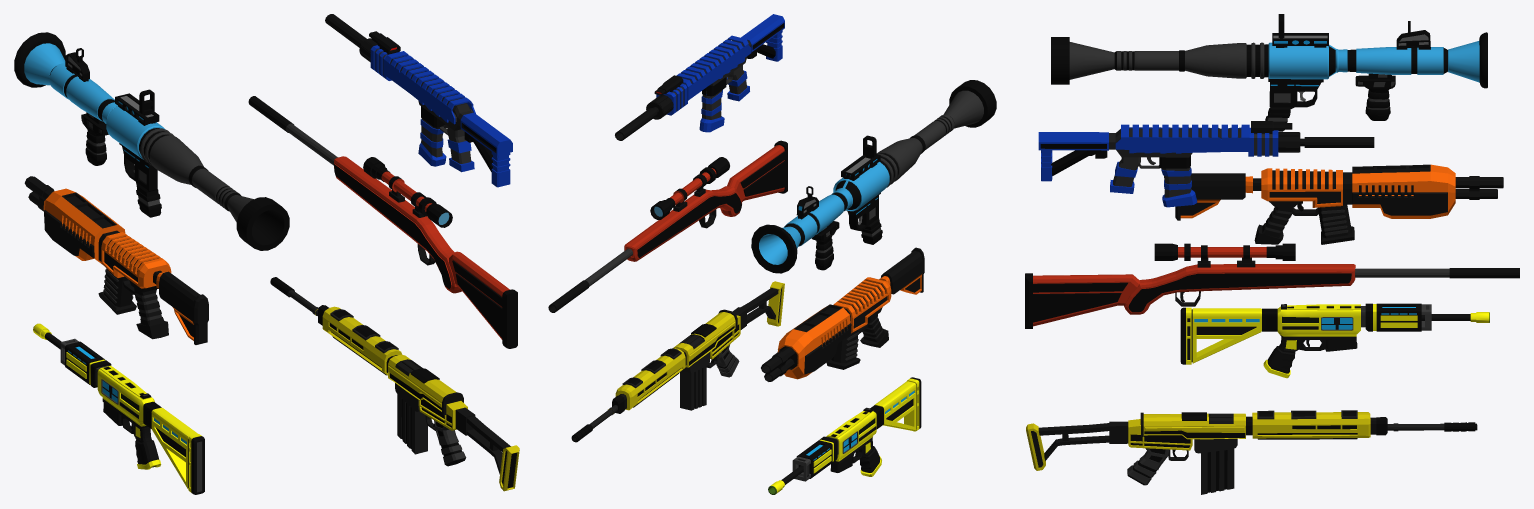
The model's file is Free Gun Asset.fbx.
The picture shows the model from 3 angles, left to right: view 1: azimuth 30°, elevation 25°; view 2: azimuth 150°, elevation 25°; view 3: azimuth 270°, elevation 25°; orthographic projection. The views are drawn at different scales.
Parts seen in each view (by area): view 1: Launcher 1, Assult Rifel 2, Assult Rifel 1, Sniper Rifel, Assult Rifel 3, Assult Rifel 4; view 2: Launcher 1, Assult Rifel 2, Sniper Rifel, Assult Rifel 1, Assult Rifel 3, Assult Rifel 4; view 3: Launcher 1, Sniper Rifel, Assult Rifel 2, Assult Rifel 1, Assult Rifel 3, Assult Rifel 4.
Boxes of the visible parts, <box> form: Launcher 1: <box>14,32,289,250</box>; Assult Rifel 2: <box>24,176,208,344</box>; Assult Rifel 1: <box>270,277,519,491</box>; Sniper Rifel: <box>248,96,517,348</box>; Assult Rifel 3: <box>325,14,512,187</box>; Assult Rifel 4: <box>33,323,204,494</box>; Launcher 1: <box>751,80,996,273</box>; Assult Rifel 2: <box>761,247,924,381</box>; Sniper Rifel: <box>548,140,787,312</box>; Assult Rifel 1: <box>571,281,784,442</box>; Assult Rifel 3: <box>615,14,784,140</box>; Assult Rifel 4: <box>768,377,921,494</box>; Launcher 1: <box>1051,14,1487,131</box>; Sniper Rifel: <box>1025,243,1519,328</box>; Assult Rifel 2: <box>1175,164,1503,244</box>; Assult Rifel 1: <box>1026,410,1477,494</box>; Assult Rifel 3: <box>1038,121,1374,207</box>; Assult Rifel 4: <box>1180,303,1489,378</box>.
Bounding box in the file's own units: 1.26 × 1.74 × 2.11.
